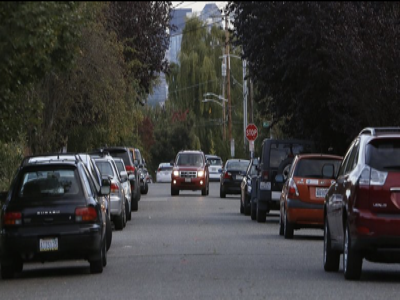licence: (36, 238, 62, 252)
